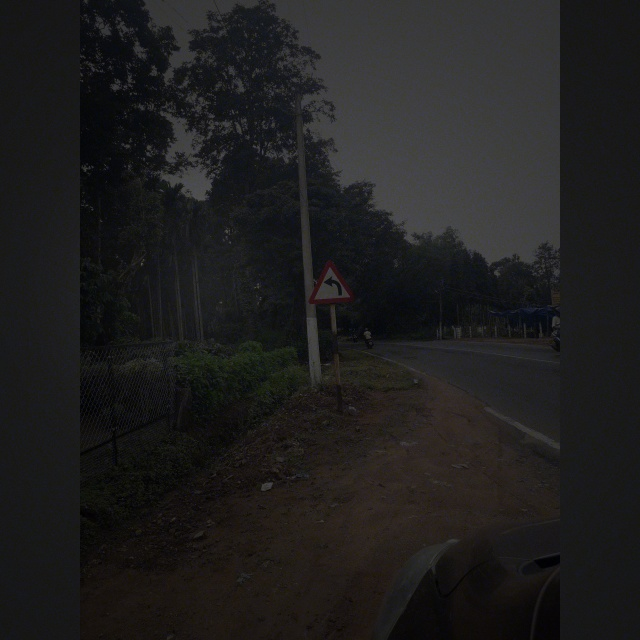Left_Hand_Curve: (310, 257, 353, 303)
